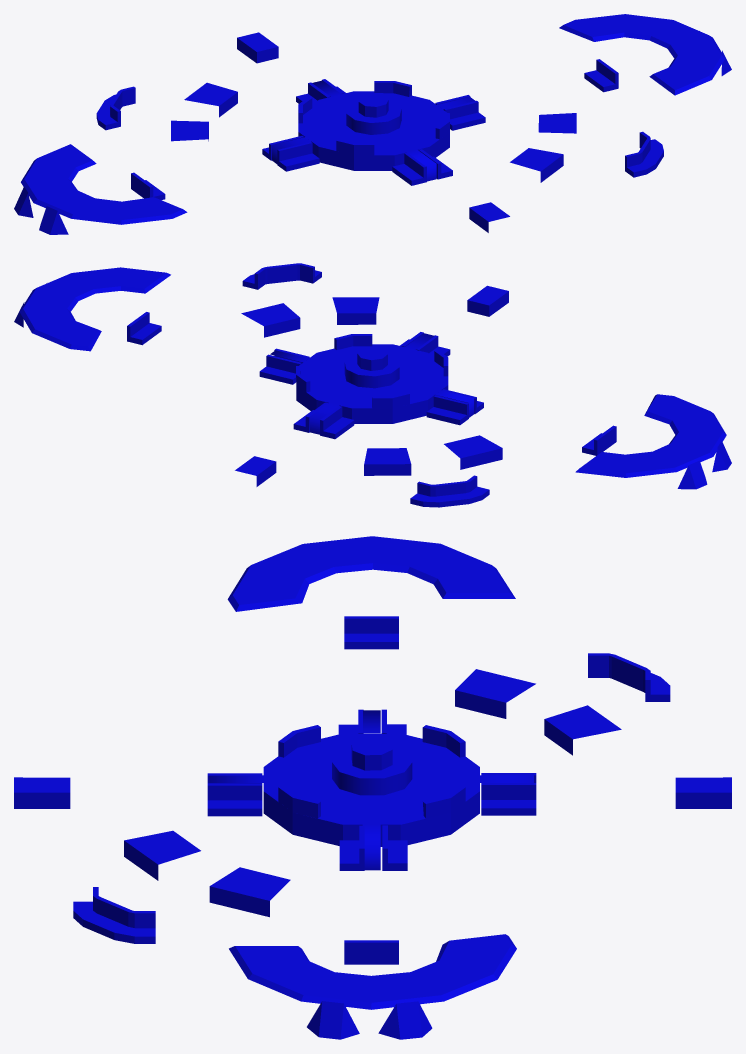
Rendered from gltf__Models__map__Village__circlePark__circlePark_mergedCollision.glb.
The picture shows the model from 3 angles, top to bottom: view 1: azimuth 30°, elevation 25°; view 2: azimuth 150°, elevation 25°; view 3: azimuth 270°, elevation 25°; orthographic projection. The views are drawn at different scales.
Parts seen in each view (by area): view 1: circlePark_mergedCollision; view 2: circlePark_mergedCollision; view 3: circlePark_mergedCollision.
Boxes of the visible parts, <box> form: circlePark_mergedCollision: <box>14,14,731,234</box>; circlePark_mergedCollision: <box>14,263,731,507</box>; circlePark_mergedCollision: <box>14,536,731,1039</box>.
Size of the model in its own units: 62.83 by 3.35 by 39.84.
